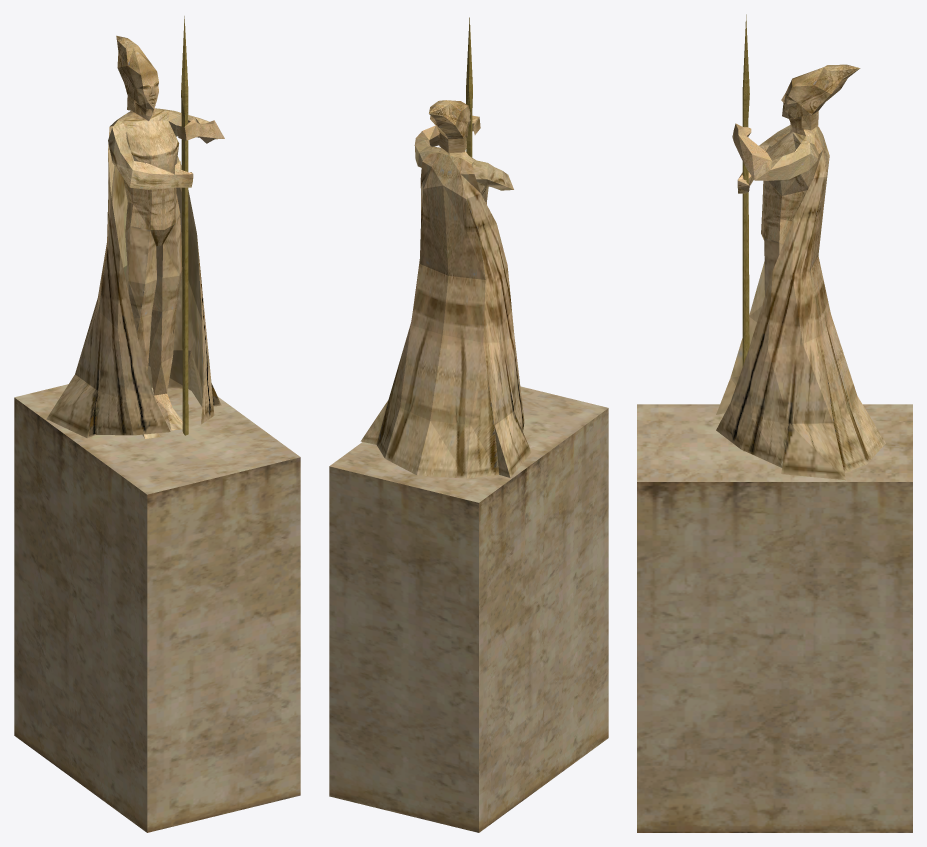
Rendered from thm_tato_guild_statue_freestand_s01_l1.fbx.
3 renders of one model, left to right at view 1: azimuth 30°, elevation 25°; view 2: azimuth 150°, elevation 25°; view 3: azimuth 270°, elevation 25°, orthographic. The views are drawn at different scales.
Parts seen in each view (by area): view 1: mesh_node; view 2: mesh_node; view 3: mesh_node.
Part boxes in pixels (box(x1,y1,x2,y2)): mesh_node: box(14, 16, 300, 832); mesh_node: box(329, 17, 608, 832); mesh_node: box(637, 14, 912, 832).
Bounding box in the file's own units: 2 × 9.44 × 3.
